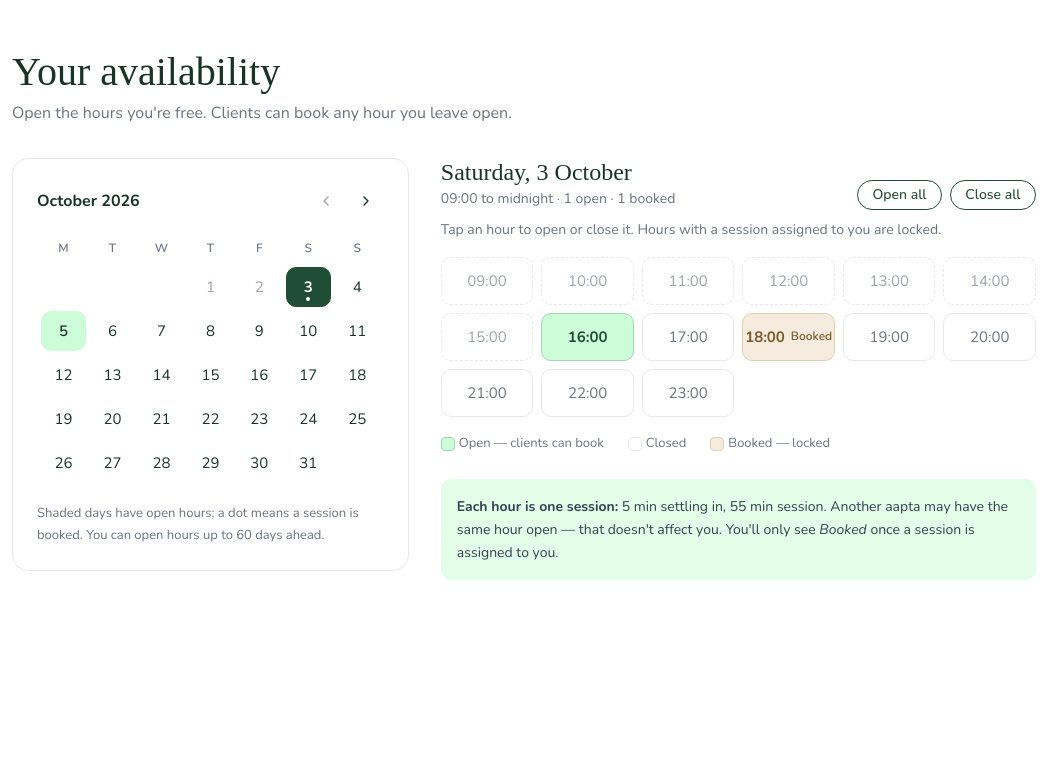
AvailabilityPageComponent › switches days from the calendar
Step 1. Click the button "5" → [64, 331], box [41, 311, 86, 351]
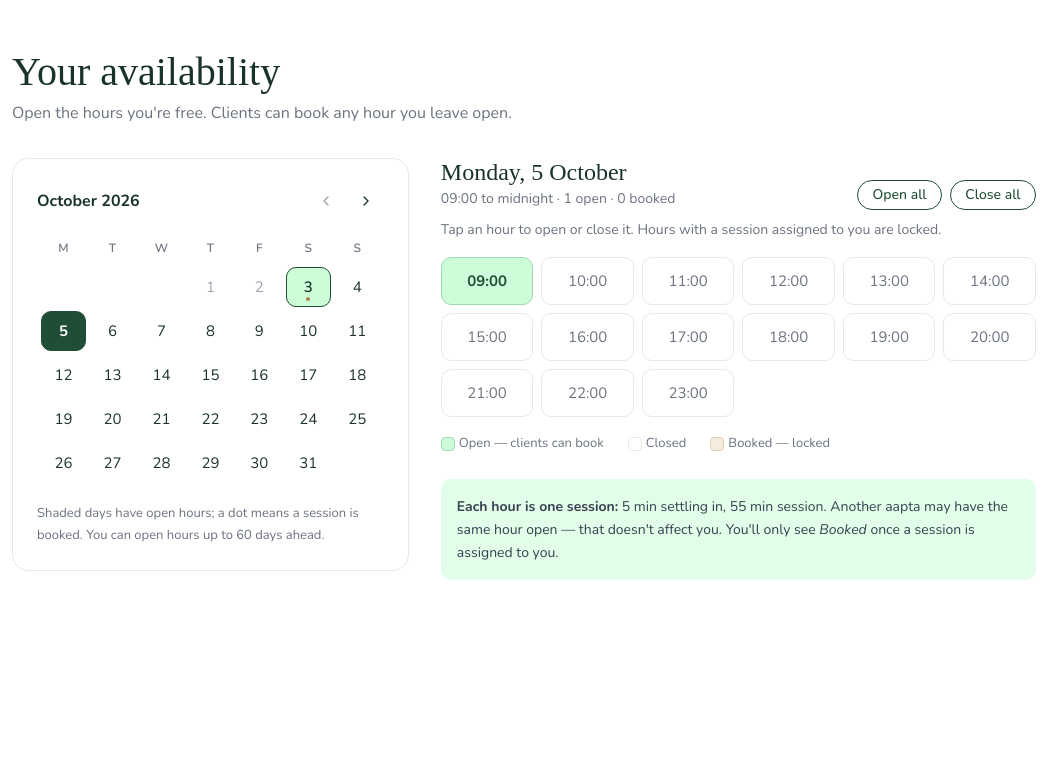
Check: the heading with id "day-heading" reads "Monday, 5 October", box [441, 159, 626, 185]
